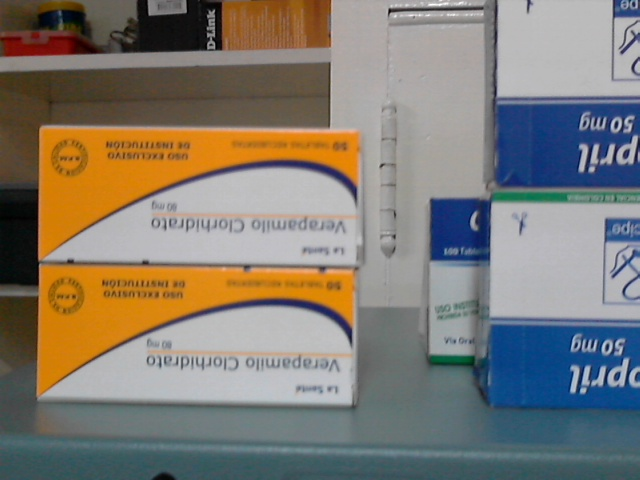LaSante: (39, 130, 355, 269), (40, 267, 350, 404)
